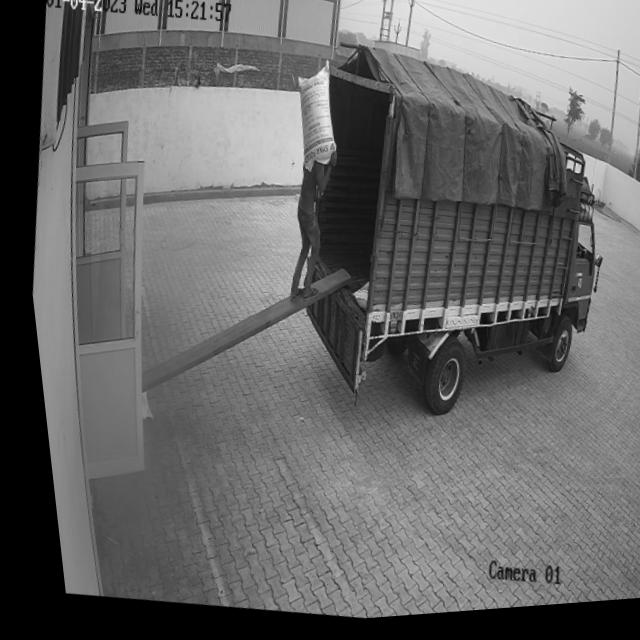sack: (279, 61, 347, 181)
